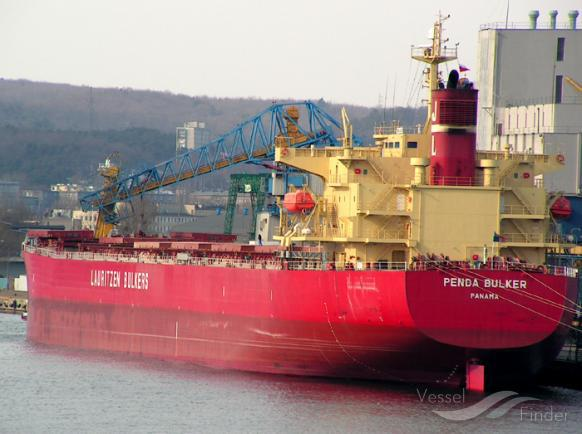OCR: (78, 266, 151, 297), (442, 272, 532, 293), (452, 288, 508, 306)
